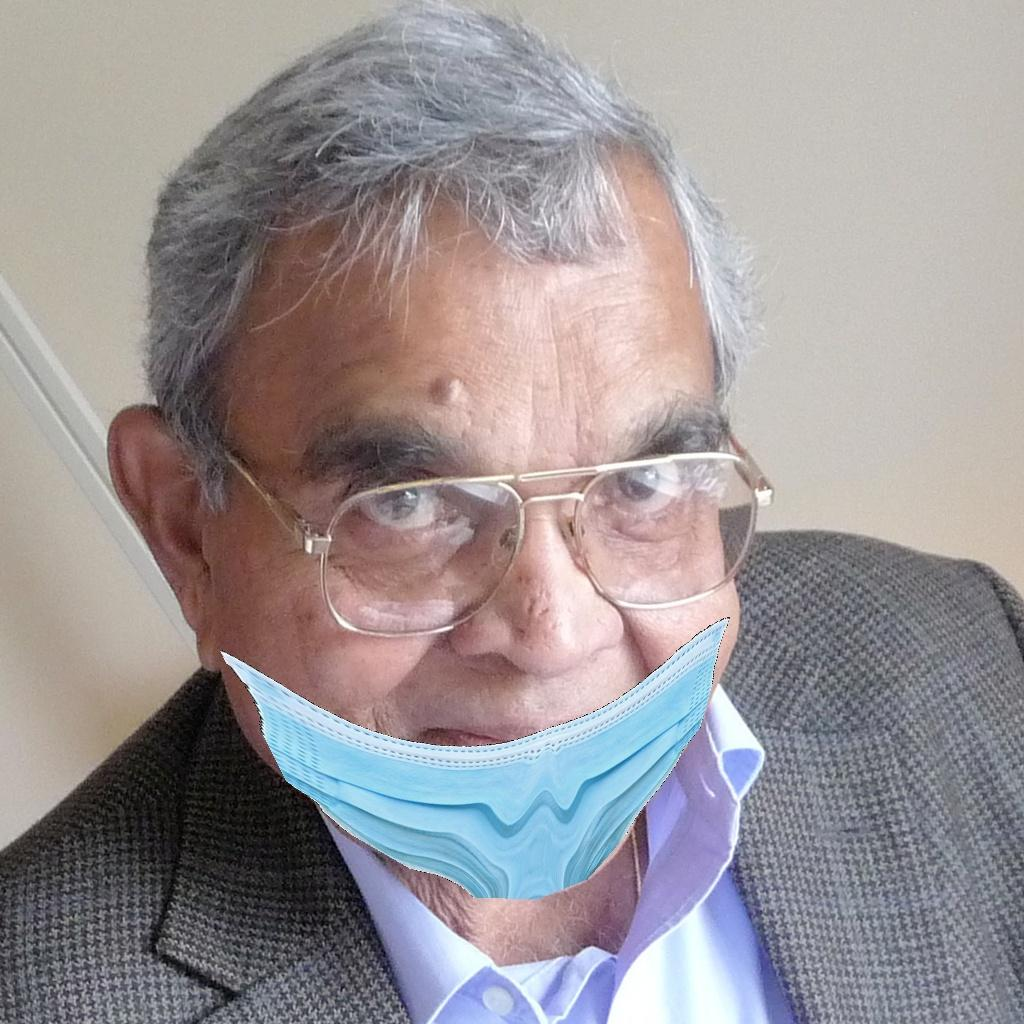Máscara Incorreta: (190, 252, 736, 886)
